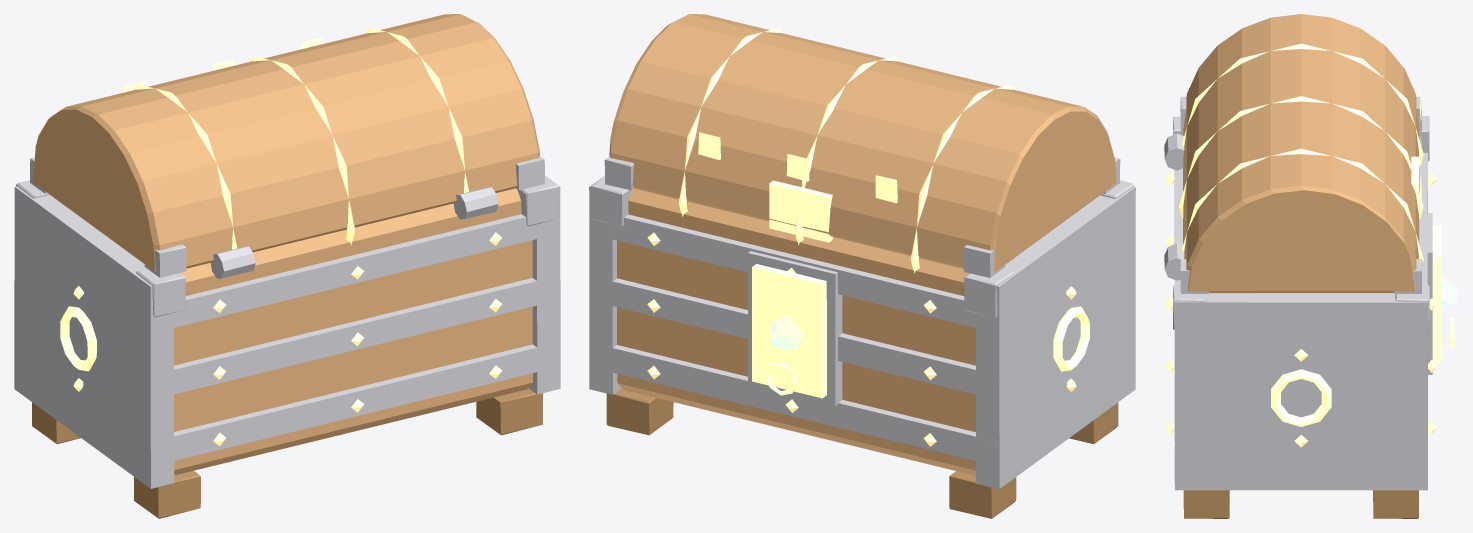
The model's file is 25-Ruinas-Templos_cofre_ancestral.glb.
3 renders of one model, left to right at view 1: azimuth 30°, elevation 25°; view 2: azimuth 150°, elevation 25°; view 3: azimuth 270°, elevation 25°, orthographic. The views are drawn at different scales.
Parts seen in each view (by area): view 1: SM_Cofre_M_Madera_Cofre, SM_Cofre_M_Hierro_Cofre, SM_Cofre_M_Madera_Cofre_Osc, SM_Cofre_M_Bronce_Cofre, SM_Cofre_M_Oro_Cofre; view 2: SM_Cofre_M_Madera_Cofre, SM_Cofre_M_Hierro_Cofre, SM_Cofre_M_Oro_Cofre, SM_Cofre_M_Madera_Cofre_Osc, SM_Cofre_M_Bronce_Cofre, SM_Cofre_M_Gema_Cofre.001; view 3: SM_Cofre_M_Madera_Cofre, SM_Cofre_M_Hierro_Cofre, SM_Cofre_M_Bronce_Cofre, SM_Cofre_M_Oro_Cofre, SM_Cofre_M_Madera_Cofre_Osc, SM_Cofre_M_Gema_Cofre.001.
Boxes of the visible parts, box(x1,y1,x2,y2) form: SM_Cofre_M_Madera_Cofre: box(33, 14, 539, 475); SM_Cofre_M_Hierro_Cofre: box(14, 156, 560, 488); SM_Cofre_M_Madera_Cofre_Osc: box(32, 388, 543, 518); SM_Cofre_M_Bronce_Cofre: box(73, 28, 502, 446); SM_Cofre_M_Oro_Cofre: box(60, 37, 322, 371); SM_Cofre_M_Madera_Cofre: box(609, 14, 1116, 475); SM_Cofre_M_Hierro_Cofre: box(589, 156, 1135, 488); SM_Cofre_M_Oro_Cofre: box(698, 132, 1089, 398); SM_Cofre_M_Madera_Cofre_Osc: box(606, 388, 1118, 518); SM_Cofre_M_Bronce_Cofre: box(647, 28, 1076, 446); SM_Cofre_M_Gema_Cofre.001: box(770, 316, 802, 350); SM_Cofre_M_Madera_Cofre: box(1183, 14, 1419, 293); SM_Cofre_M_Hierro_Cofre: box(1164, 96, 1432, 490); SM_Cofre_M_Bronce_Cofre: box(1165, 43, 1437, 447); SM_Cofre_M_Oro_Cofre: box(1271, 93, 1454, 426); SM_Cofre_M_Madera_Cofre_Osc: box(1183, 490, 1418, 518); SM_Cofre_M_Gema_Cofre.001: box(1441, 277, 1458, 310).
Size of the model in its own units: 0.7753 by 0.6271 by 0.4972.
